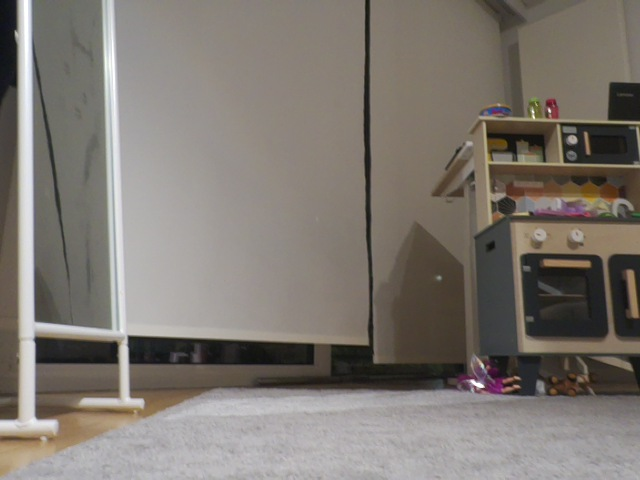mirror: (0, 0, 151, 439)
